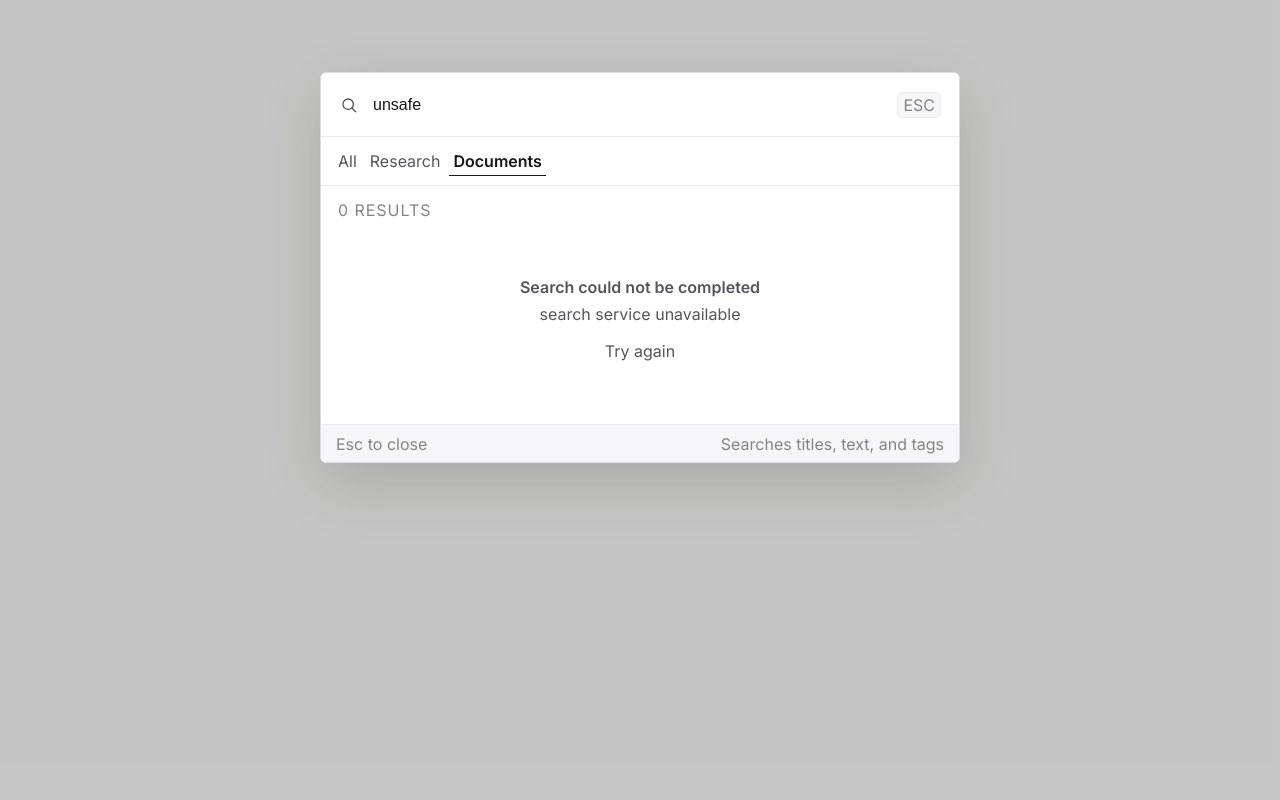
Scenario: shows a retryable error and renders an untrusted snippet only as text
Check: the message "Search could not be completed search service unavailable Try again" is shown, box [520, 277, 760, 368]
Click the button "Try again".
click(640, 351)  # box [594, 334, 686, 368]
Wait 300 ms
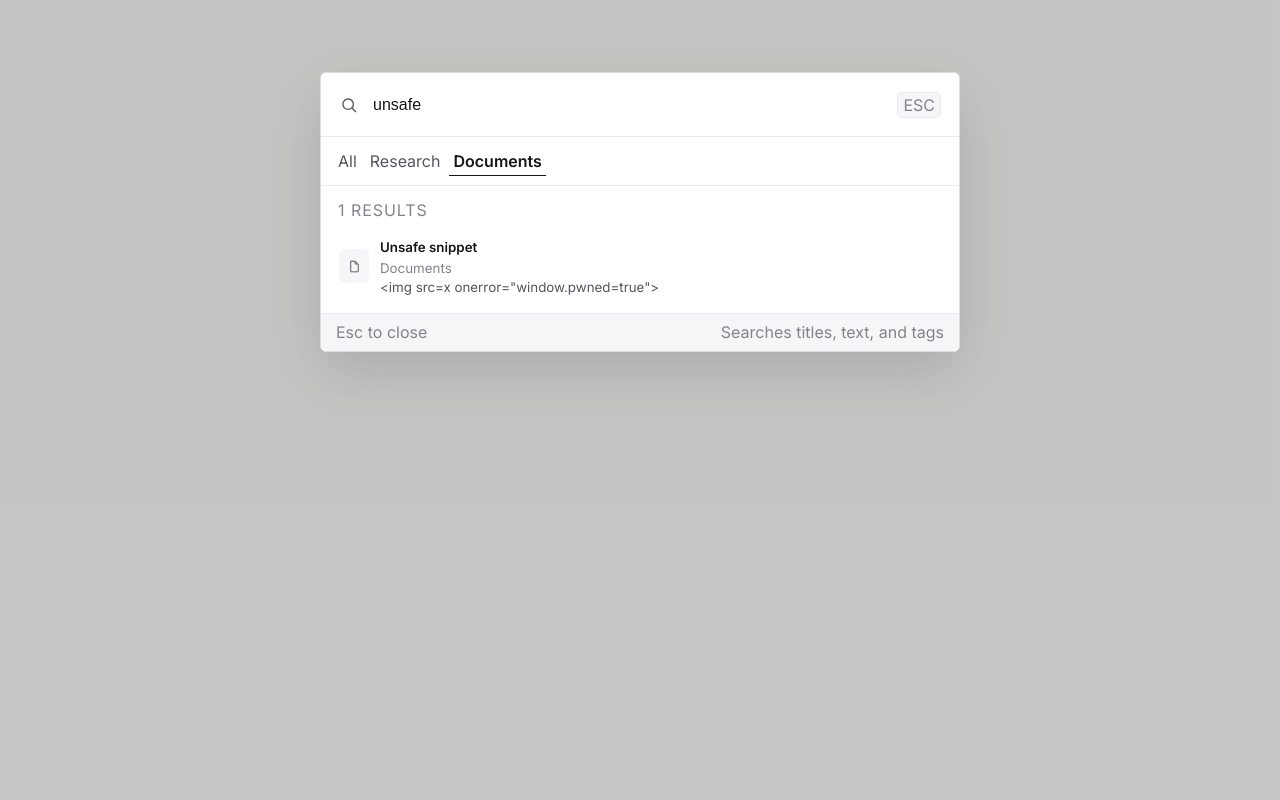
Check: the button "Unsafe snippet" shows "<img src=x onerror=\"window.pwned=true\">", box [329, 228, 951, 305]
